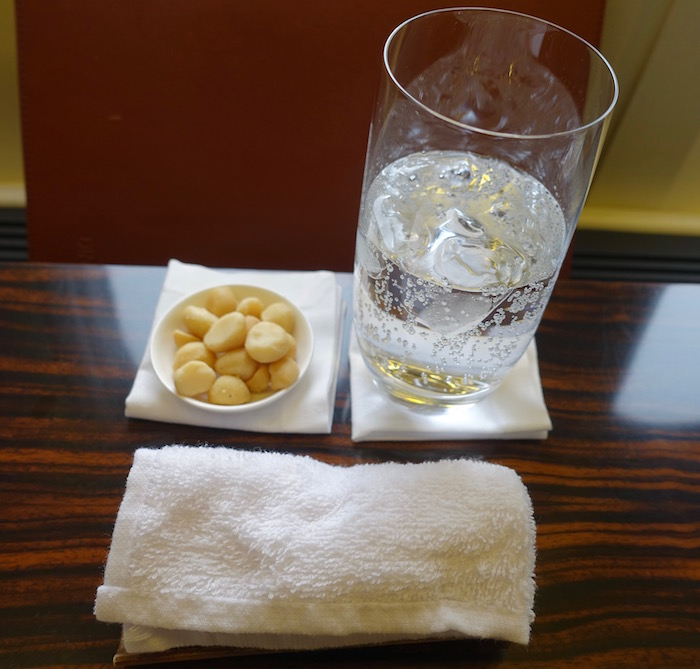glass of water: (371, 77, 532, 393)
